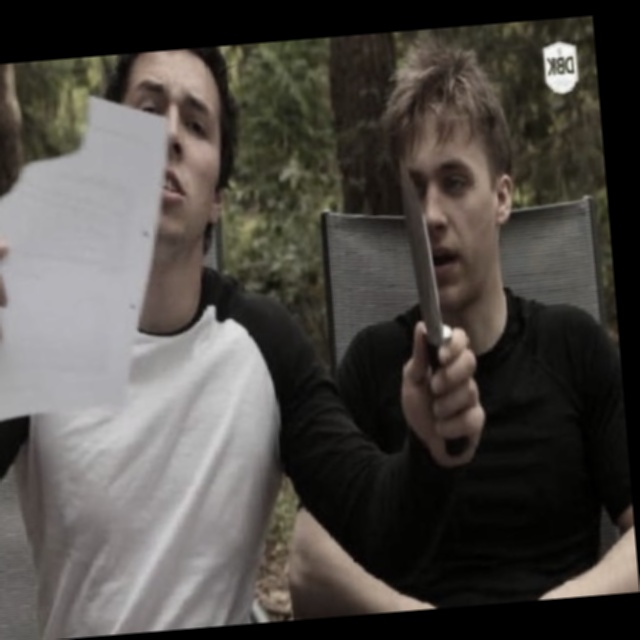Sharp-Object: (421, 212, 467, 459)
